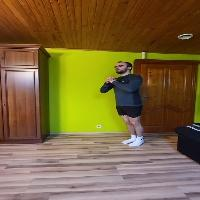lunges: (92, 55, 152, 157)
